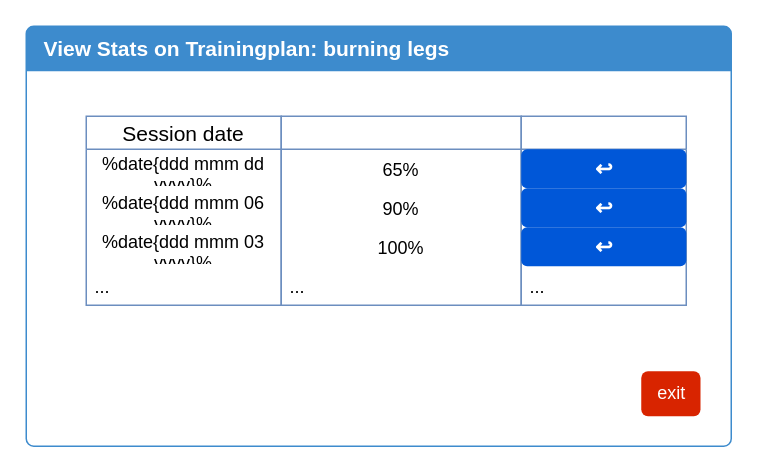
Image size: 758x473. Some labels were removed from this diagram. The box of each missing label's shape, as (x1, y1, x2, y2) in pixels:
Completed in %: (280, 115, 521, 305)
Open Session: (520, 115, 686, 305)
